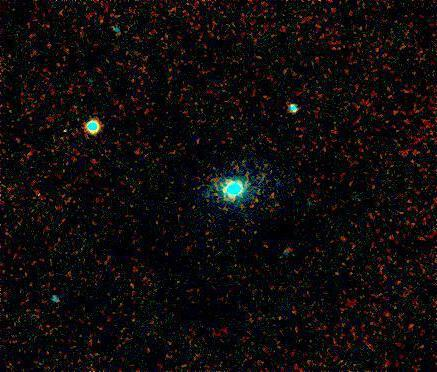star: (256, 180, 286, 210)
